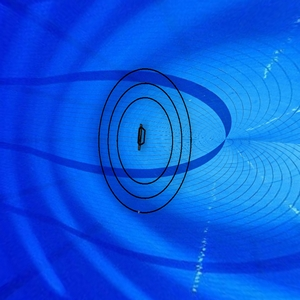circle: (97, 65, 194, 217)
submarine: (132, 122, 151, 154)
